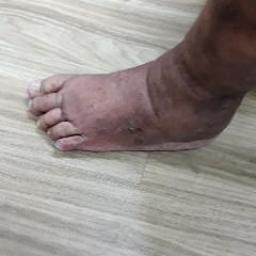Lateral View -Left Foot-: (14, 47, 248, 181)
